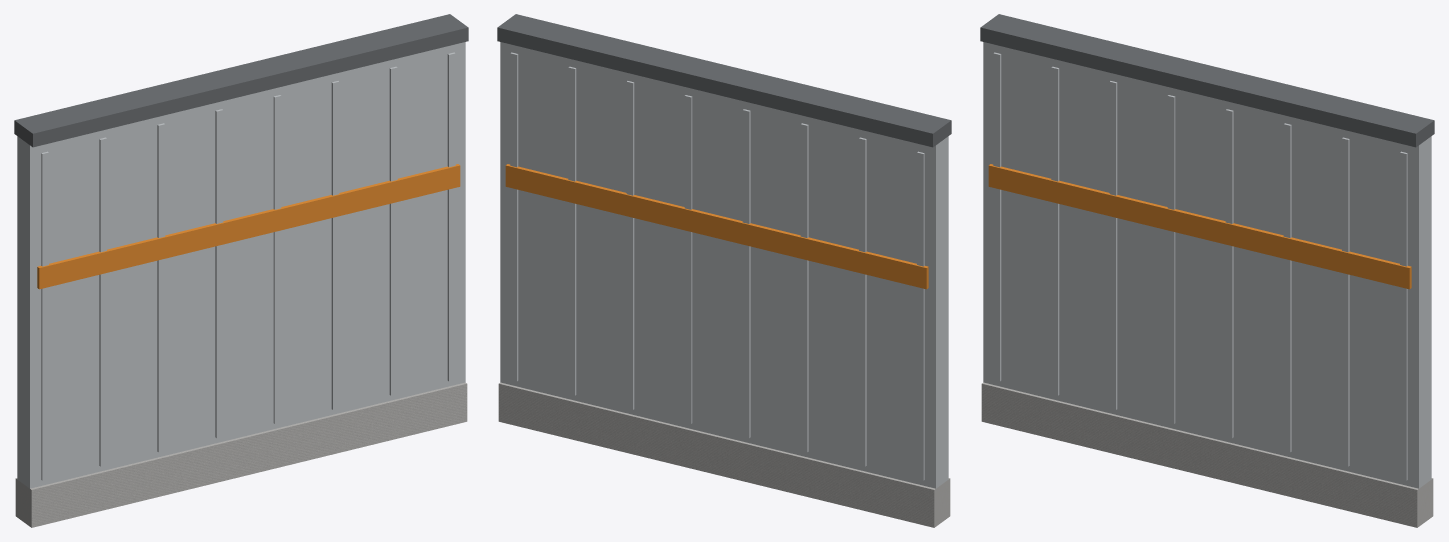
Rendered from self-storage-facility-and-loading-bay-self-storage-fac-a4ff3a73__34699.glb.
The picture shows the model from 3 angles, left to right: view 1: azimuth 30°, elevation 25°; view 2: azimuth 150°, elevation 25°; view 3: azimuth 330°, elevation 25°; orthographic projection.
Visible parts, largest first — view 1: self-storage-facility-and-loading-bay-corridor-wall-module; view 2: self-storage-facility-and-loading-bay-corridor-wall-module; view 3: self-storage-facility-and-loading-bay-corridor-wall-module.
Part boxes in pixels (x1,y1,x2,y2): self-storage-facility-and-loading-bay-corridor-wall-module: (14,14,468,527); self-storage-facility-and-loading-bay-corridor-wall-module: (497,14,951,527); self-storage-facility-and-loading-bay-corridor-wall-module: (980,14,1434,527).
Size of the model in its own units: 3 by 2.6 by 0.2201.
4 materials, 1 textured.
